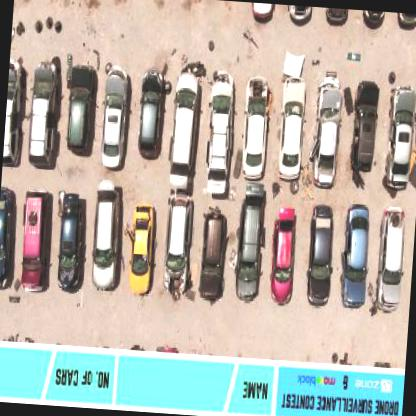car: (310, 74, 344, 190), (90, 180, 124, 294), (232, 190, 266, 302), (168, 70, 199, 190), (26, 62, 61, 168), (204, 73, 234, 194), (338, 204, 372, 310), (375, 205, 408, 313), (304, 204, 338, 305), (54, 192, 88, 292), (276, 76, 308, 181), (385, 85, 415, 193), (19, 189, 51, 290), (240, 76, 271, 180), (349, 79, 382, 176), (162, 195, 193, 298), (126, 200, 158, 296), (198, 210, 230, 302), (268, 206, 298, 303), (100, 77, 129, 172), (136, 70, 166, 160), (66, 65, 96, 155), (3, 59, 27, 170), (0, 183, 18, 291)
